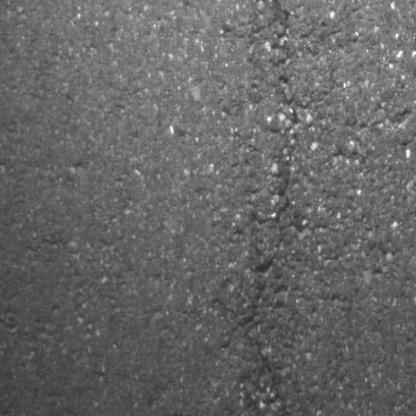Cracks: (242, 0, 307, 416)
